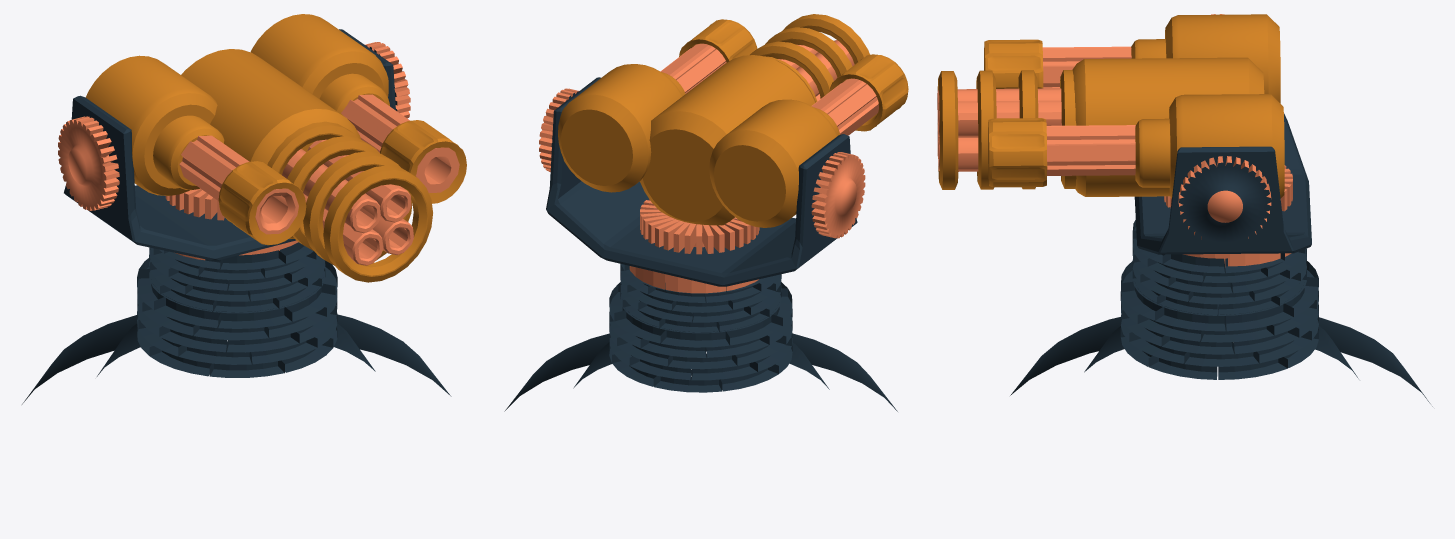
The model's file is Level3_Turret.fbx.
3 renders of one model, left to right at view 1: azimuth 30°, elevation 25°; view 2: azimuth 150°, elevation 25°; view 3: azimuth 270°, elevation 25°, orthographic. The views are drawn at different scales.
Parts seen in each view (by area): view 1: Cylinder.005, Cylinder.007, Cube.066, Circle.224, Cylinder.033, Cylinder.061, Circle.231, Cylinder.006, Circle.230, Circle.233, Circle.232, Circle.222 (+28 smaller); view 2: Cylinder.005, Cube.066, Cylinder.007, Cylinder.035, Cylinder.033, Cylinder.061, Circle.230, Circle.231, Cylinder.028, Circle.232, Cylinder.027, Circle.233 (+21 smaller); view 3: Cylinder.005, Cylinder.007, Cube.066, Cylinder.059, Cylinder.033, Circle.233, Circle.232, Cylinder.006, Circle.230, Circle.224, Cylinder.027, Cylinder.028 (+26 smaller).
Boxes of the visible parts, <box> form: Cylinder.005: <box>85,14,388,195</box>; Cylinder.007: <box>181,49,360,238</box>; Cube.066: <box>64,29,395,260</box>; Circle.224: <box>323,165,432,282</box>; Cylinder.033: <box>22,312,451,404</box>; Cylinder.061: <box>58,116,119,210</box>; Circle.231: <box>179,135,298,234</box>; Cylinder.006: <box>153,73,389,190</box>; Circle.230: <box>218,161,306,245</box>; Circle.233: <box>341,94,459,192</box>; Circle.232: <box>380,120,466,203</box>; Circle.222: <box>303,151,412,265</box>; Cylinder.005: <box>558,64,837,227</box>; Cube.066: <box>546,77,857,286</box>; Cylinder.007: <box>640,55,815,226</box>; Cylinder.035: <box>629,199,759,293</box>; Cylinder.033: <box>504,331,897,411</box>; Cylinder.061: <box>811,152,865,238</box>; Circle.230: <box>829,54,908,131</box>; Circle.231: <box>811,78,878,135</box>; Cylinder.028: <box>609,283,792,347</box>; Circle.232: <box>679,19,757,62</box>; Cylinder.027: <box>614,282,787,345</box>; Circle.233: <box>660,43,726,93</box>; Cylinder.005: <box>1165,14,1284,198</box>; Cylinder.007: <box>1072,57,1264,196</box>; Cube.066: <box>1134,113,1311,254</box>; Cylinder.059: <box>1178,156,1271,246</box>; Cylinder.033: <box>1010,316,1432,406</box>; Circle.233: <box>1046,125,1135,175</box>; Circle.232: <box>988,118,1047,187</box>; Cylinder.006: <box>1131,39,1170,187</box>; Circle.230: <box>984,39,1043,88</box>; Circle.224: <box>937,71,958,189</box>; Cylinder.027: <box>1121,261,1318,331</box>; Cylinder.028: <box>1121,261,1318,331</box>.
Bounding box in the file's own units: 84.16 × 77.06 × 94.9.
